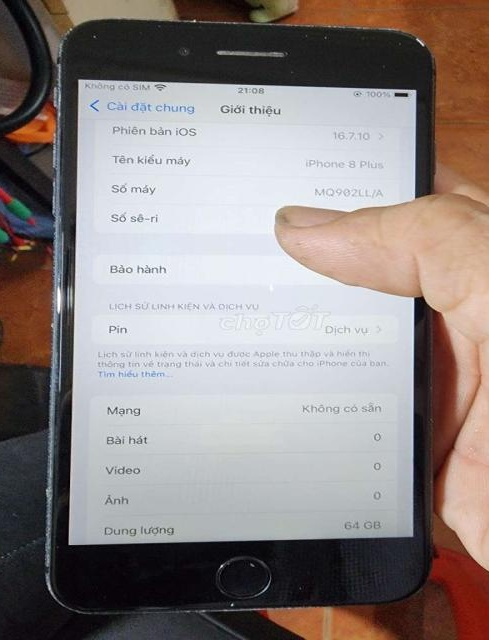scratch: (114, 9, 442, 79), (41, 36, 68, 596), (70, 601, 350, 619), (74, 22, 113, 44), (300, 568, 325, 584), (287, 582, 304, 598), (245, 560, 260, 576)
